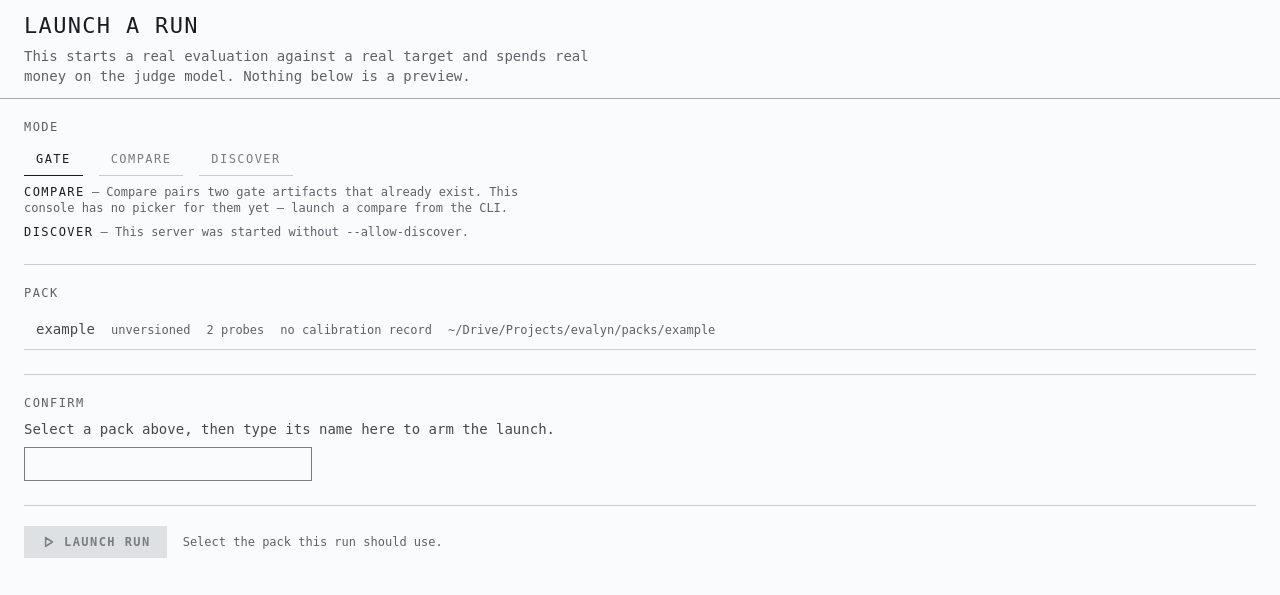
Test case: the launch console › lands on a run that is still on the air, with the live window mounted
Step 1. Click the button with test id "pack-key" → point(640, 330), box [24,309,1256,350]
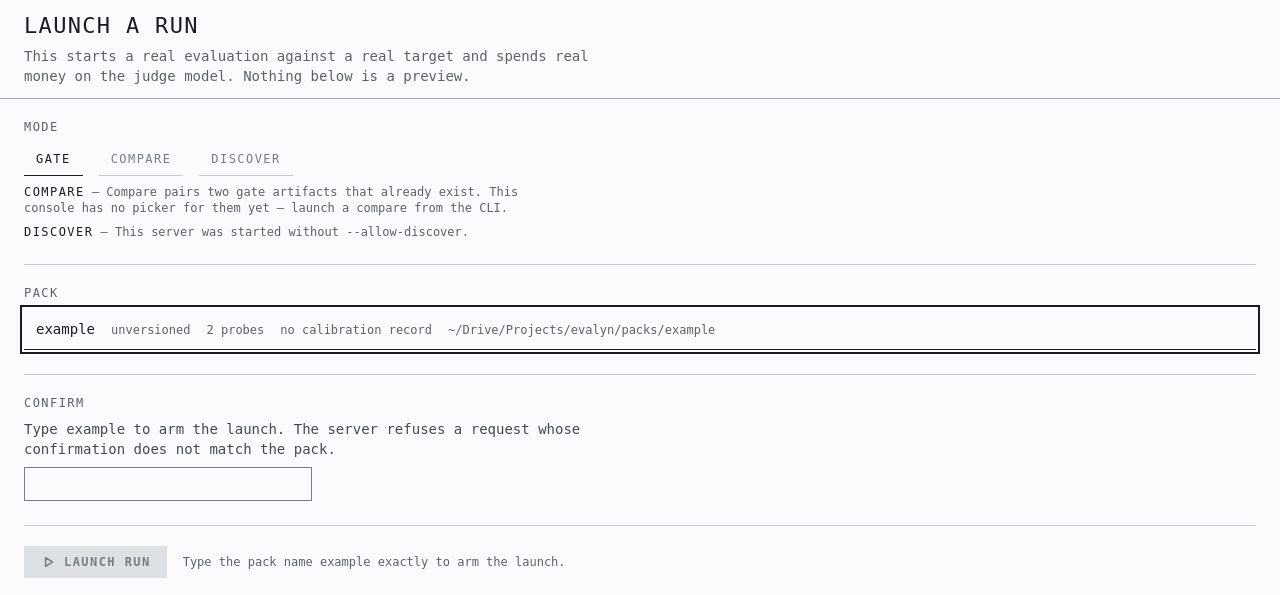
Step 2. Type "example" into the field labelled "Type example" → point(168, 484), box [24,467,312,501]
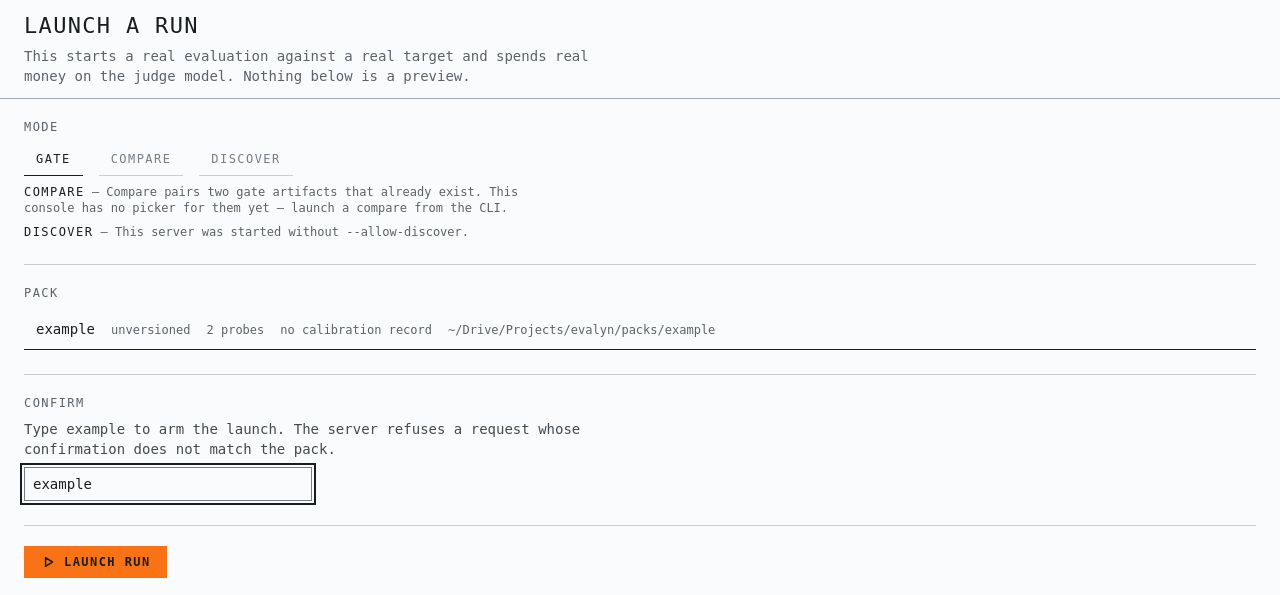
Step 3. Click the button with test id "safety-key" → point(95, 562), box [24,546,167,578]
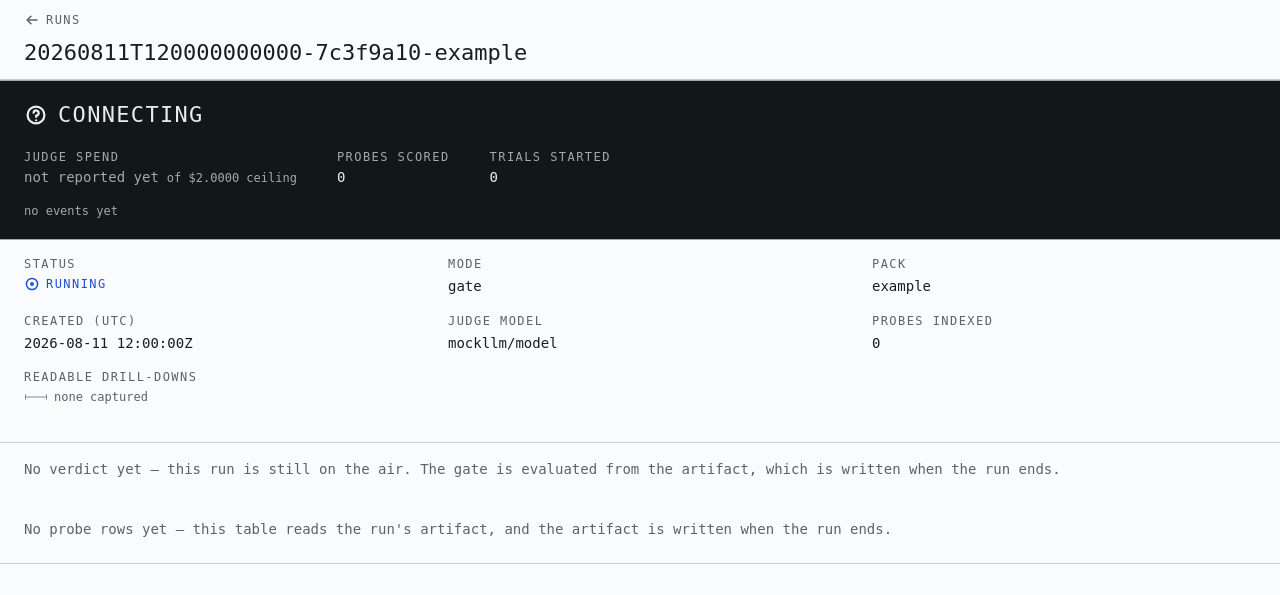
Now the element with test id "live-window" is shown, box [0,80,1279,240]
Now the text with test id "gate-banner-pending" is shown, box [0,442,1279,495]
